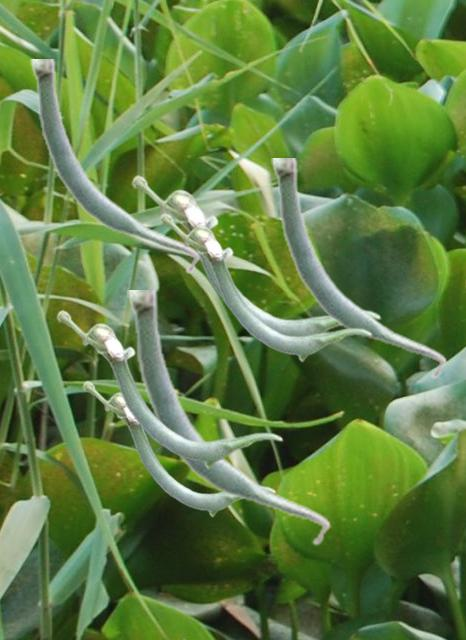french_bean: (127, 290, 330, 546), (131, 174, 380, 335), (271, 158, 446, 379), (30, 59, 199, 274), (56, 309, 282, 468), (159, 212, 371, 361), (82, 380, 275, 516)
